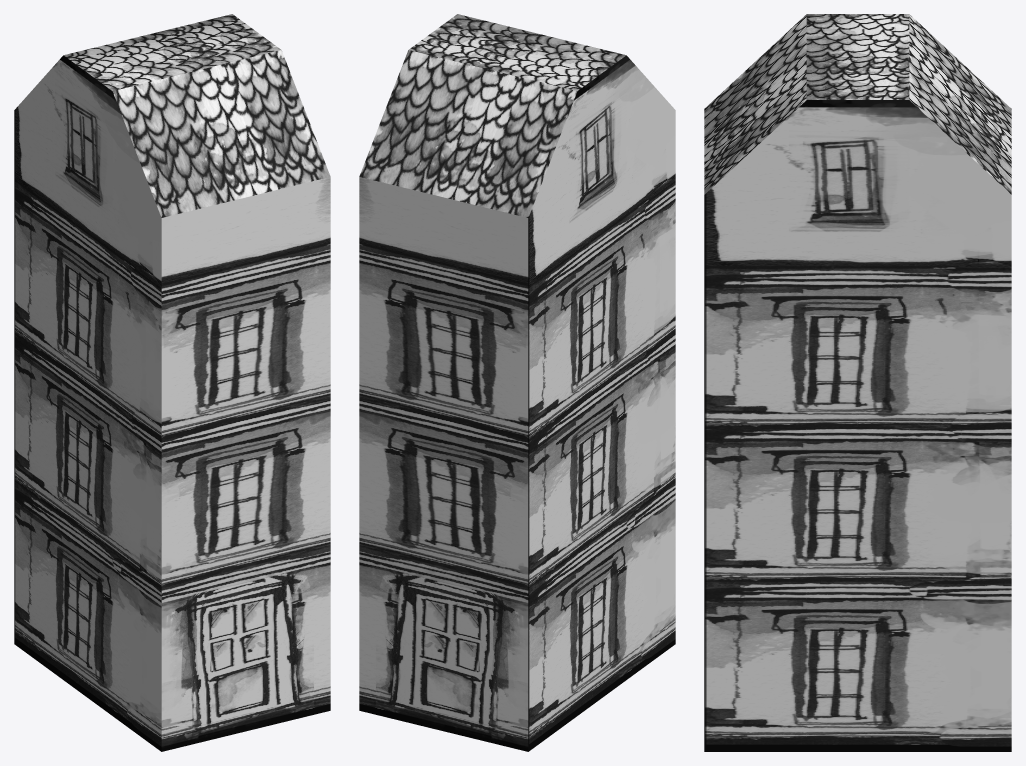
The model's file is HouseSimple02.fbx.
The picture shows the model from 3 angles, left to right: view 1: azimuth 30°, elevation 25°; view 2: azimuth 150°, elevation 25°; view 3: azimuth 270°, elevation 25°; orthographic projection. The views are drawn at different scales.
Parts seen in each view (by area): view 1: HouseSimple02; view 2: HouseSimple02; view 3: HouseSimple02.
Boxes of the visible parts, bbox=[...] form: HouseSimple02: bbox=[14, 14, 330, 751]; HouseSimple02: bbox=[359, 14, 675, 751]; HouseSimple02: bbox=[704, 14, 1011, 751].
Bounding box in the file's own units: 8.43 × 29.77 × 12.72.
